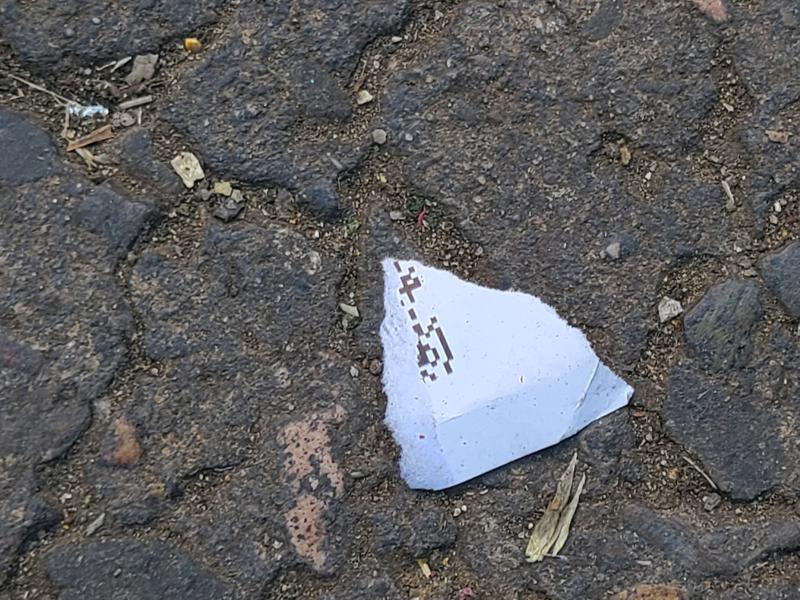papel: (378, 259, 636, 494)
